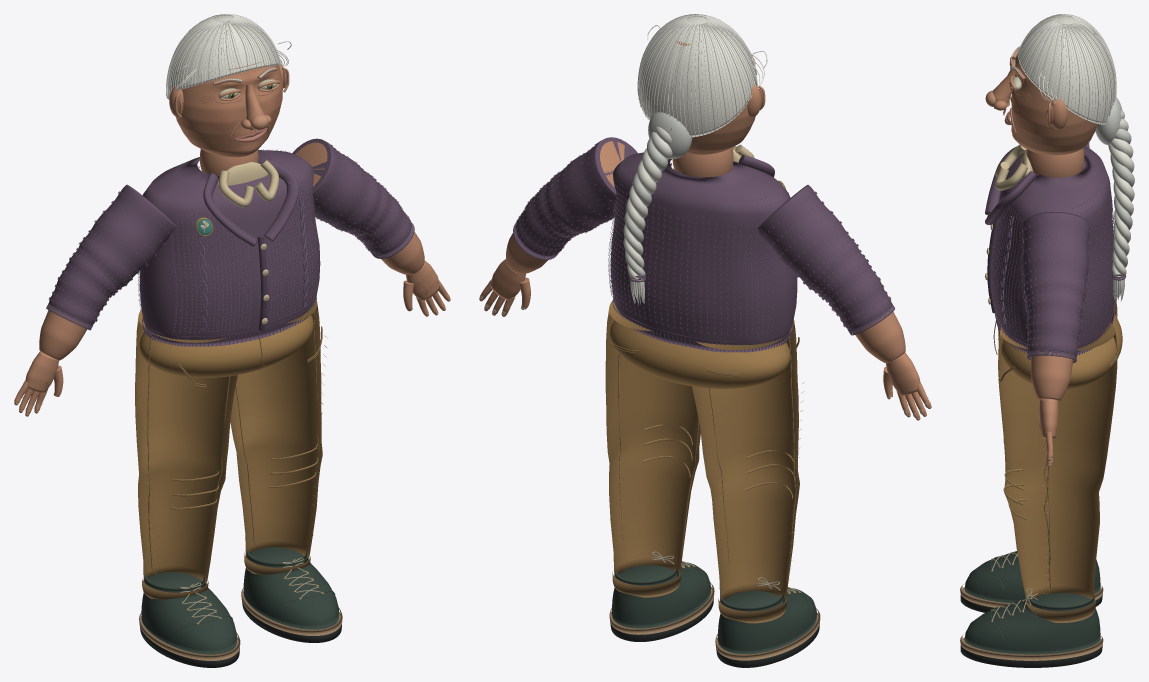
3 renders of one model, left to right at view 1: azimuth 30°, elevation 25°; view 2: azimuth 150°, elevation 25°; view 3: azimuth 270°, elevation 25°, orthographic. The views are drawn at different scales.
Visible parts, largest first — view 1: Clothing.Cardigan.Body, Clothing.Canvas.TrouserLeg.L, Clothing.Canvas.TrouserLeg.R, Clothing.Cardigan.Sleeve.L, Clothing.Cardigan.Sleeve.R, Anatomy.SculptedHead, Clothing.Canvas.Seat, Clothing.Cardigan.Stockinette, Hair.CombedStrands (×2), Footwear.Leather.L, Footwear.Leather.R, Hair.SweptScalp (+17 smaller); view 2: Clothing.Cardigan.Body, Clothing.Canvas.TrouserLeg.L, Clothing.Canvas.TrouserLeg.R, Hair.SweptScalp, Clothing.Cardigan.Sleeve.L, Hair.CombedStrands (×2), Clothing.Cardigan.Sleeve.R, Clothing.Canvas.Seat, Footwear.Leather.R, Footwear.Leather.L, Hair.Braid.ThreeInterwovenStrands (×2), Clothing.Cardigan.BackKnit (+17 smaller); view 3: Clothing.Canvas.TrouserLeg.R, Clothing.Cardigan.Body, Clothing.Cardigan.Sleeve.R, Hair.SweptScalp, Hair.CombedStrands (×2), Footwear.Leather.R, Anatomy.SculptedHead, Hair.Braid.ThreeInterwovenStrands (×2), Clothing.Canvas.Seat, Footwear.Leather.L, Anatomy.Arm.R, Clothing.Cardigan.Stockinette (+18 smaller).
Part boxes in pixels (bbox=[...]): Clothing.Cardigan.Body: bbox=[139, 150, 320, 346]; Clothing.Canvas.TrouserLeg.L: bbox=[135, 310, 237, 584]; Clothing.Canvas.TrouserLeg.R: bbox=[230, 299, 322, 559]; Clothing.Cardigan.Sleeve.L: bbox=[49, 184, 175, 326]; Clothing.Cardigan.Sleeve.R: bbox=[292, 138, 411, 254]; Anatomy.SculptedHead: bbox=[176, 65, 282, 157]; Clothing.Canvas.Seat: bbox=[139, 315, 313, 377]; Clothing.Cardigan.Stockinette: bbox=[170, 180, 318, 332]; Hair.CombedStrands (×2): bbox=[166, 14, 281, 98]; Footwear.Leather.L: bbox=[141, 582, 236, 654]; Footwear.Leather.R: bbox=[243, 557, 339, 629]; Hair.SweptScalp: bbox=[167, 15, 280, 99]; Clothing.Cardigan.Body: bbox=[610, 152, 797, 352]; Clothing.Canvas.TrouserLeg.L: bbox=[692, 319, 799, 602]; Clothing.Canvas.TrouserLeg.R: bbox=[605, 301, 700, 576]; Hair.SweptScalp: bbox=[639, 16, 755, 137]; Clothing.Cardigan.Sleeve.L: bbox=[757, 185, 891, 331]; Hair.CombedStrands (×2): bbox=[637, 14, 757, 137]; Clothing.Cardigan.Sleeve.R: bbox=[516, 137, 637, 255]; Clothing.Canvas.Seat: bbox=[609, 320, 790, 388]; Footwear.Leather.R: bbox=[612, 562, 710, 628]; Footwear.Leather.L: bbox=[717, 588, 816, 654]; Hair.Braid.ThreeInterwovenStrands (×2): bbox=[623, 126, 672, 280]; Clothing.Cardigan.BackKnit: bbox=[608, 163, 774, 335]; Clothing.Canvas.TrouserLeg.R: bbox=[998, 323, 1117, 601]; Clothing.Cardigan.Body: bbox=[991, 146, 1114, 354]; Clothing.Cardigan.Sleeve.R: bbox=[1022, 212, 1089, 354]; Hair.SweptScalp: bbox=[1018, 16, 1114, 124]; Hair.CombedStrands (×2): bbox=[1017, 14, 1116, 124]; Footwear.Leather.R: bbox=[964, 597, 1100, 654]; Anatomy.SculptedHead: bbox=[1011, 33, 1097, 155]; Hair.Braid.ThreeInterwovenStrands (×2): bbox=[1108, 110, 1134, 278]; Clothing.Canvas.Seat: bbox=[998, 314, 1122, 389]; Footwear.Leather.L: bbox=[964, 551, 1100, 603]; Anatomy.Arm.R: bbox=[1031, 352, 1073, 401]; Clothing.Cardigan.Stockinette: bbox=[990, 195, 1025, 338].
Bounding box in the file's own units: 1.24 × 1.63 × 0.4244.
